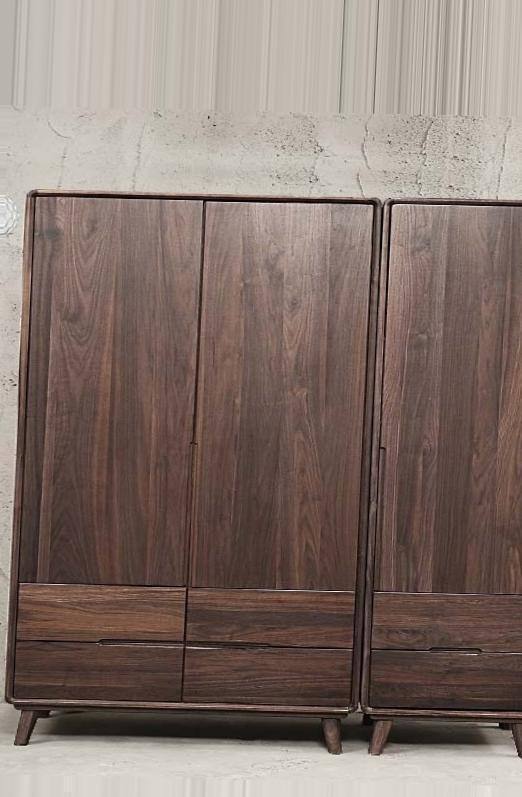Armario: (23, 173, 360, 750), (369, 190, 520, 757)
